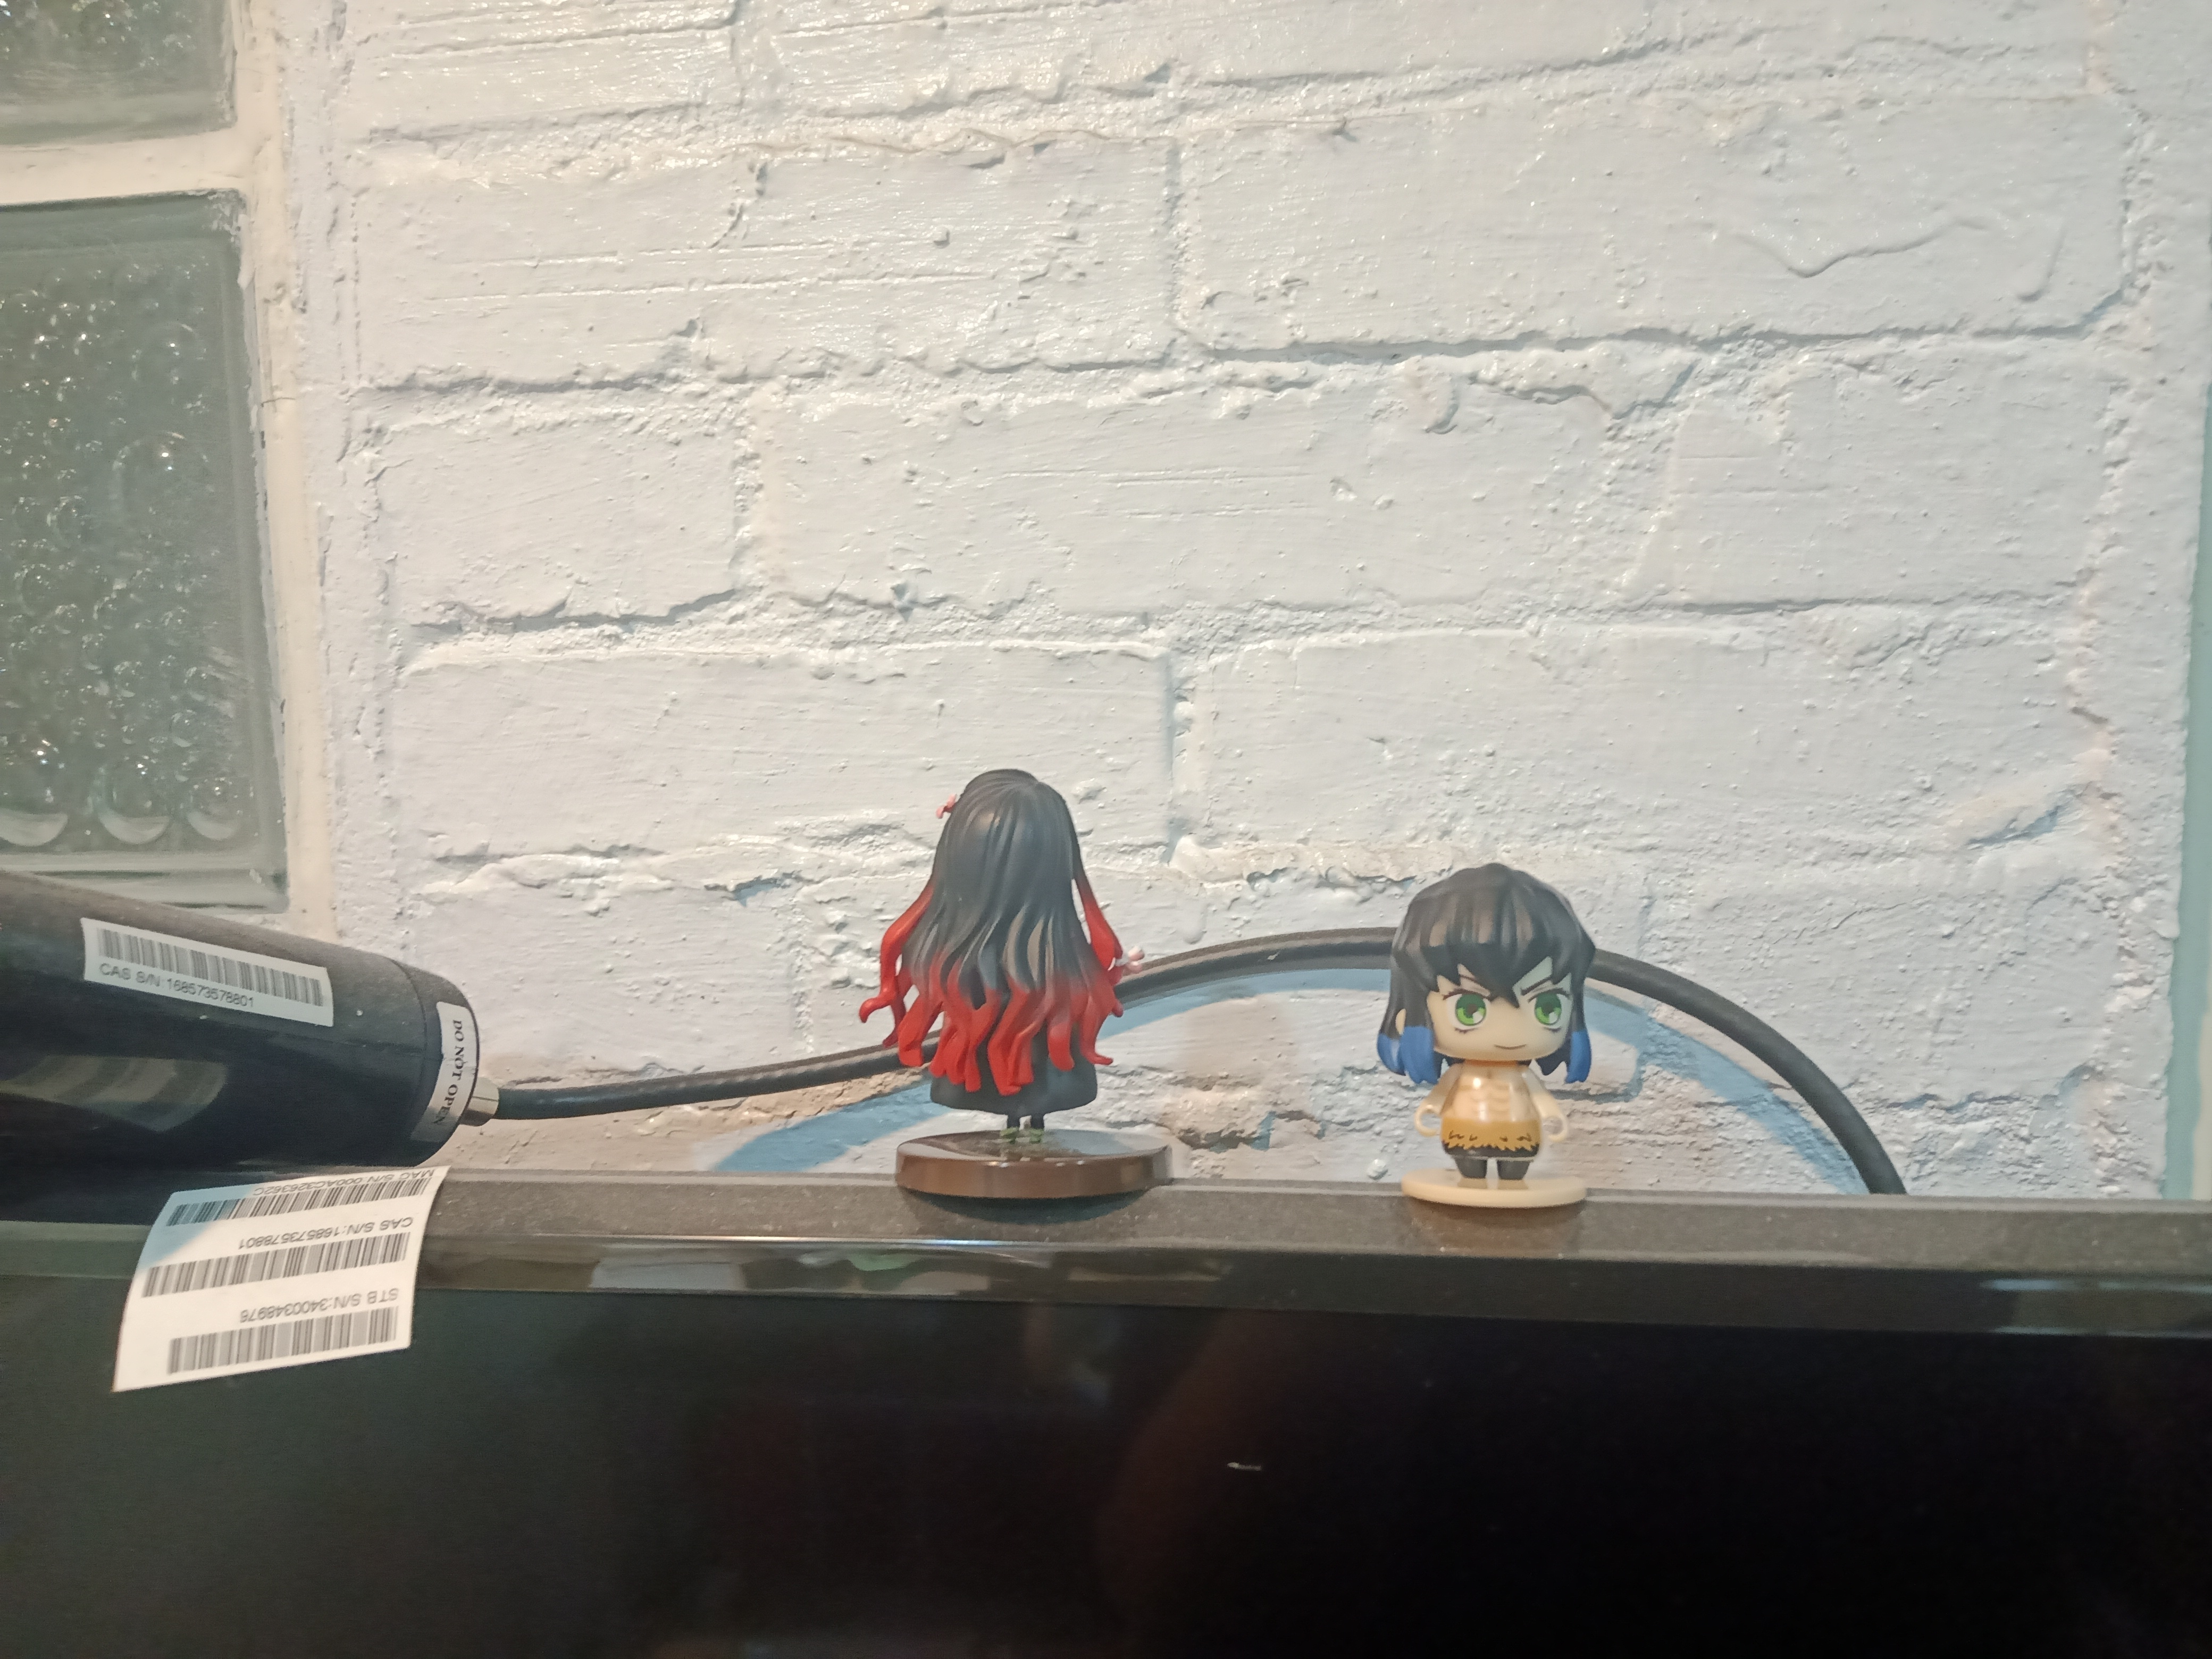Inosuke: (1352, 857, 1618, 1234)
Nezuko: (845, 758, 1195, 1223)
